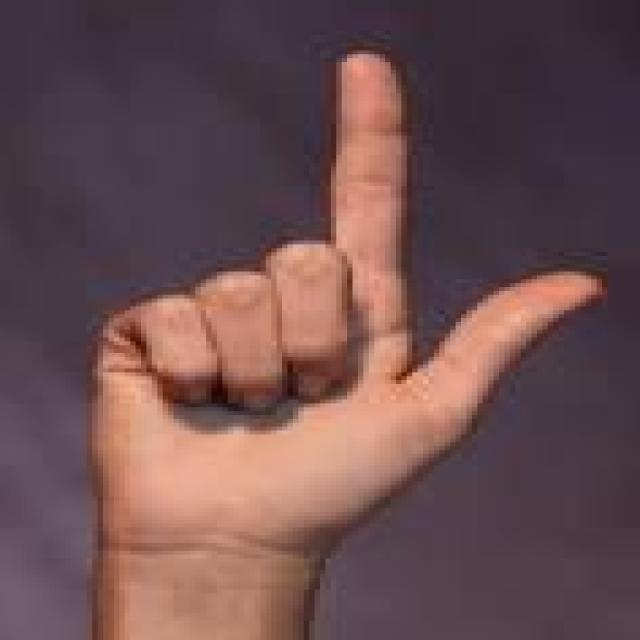L: (71, 44, 624, 560)
